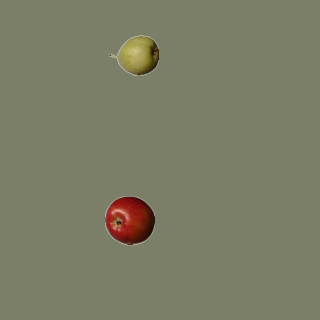Apple Braeburn: (104, 195, 154, 245)
Pear: (108, 30, 158, 80)
